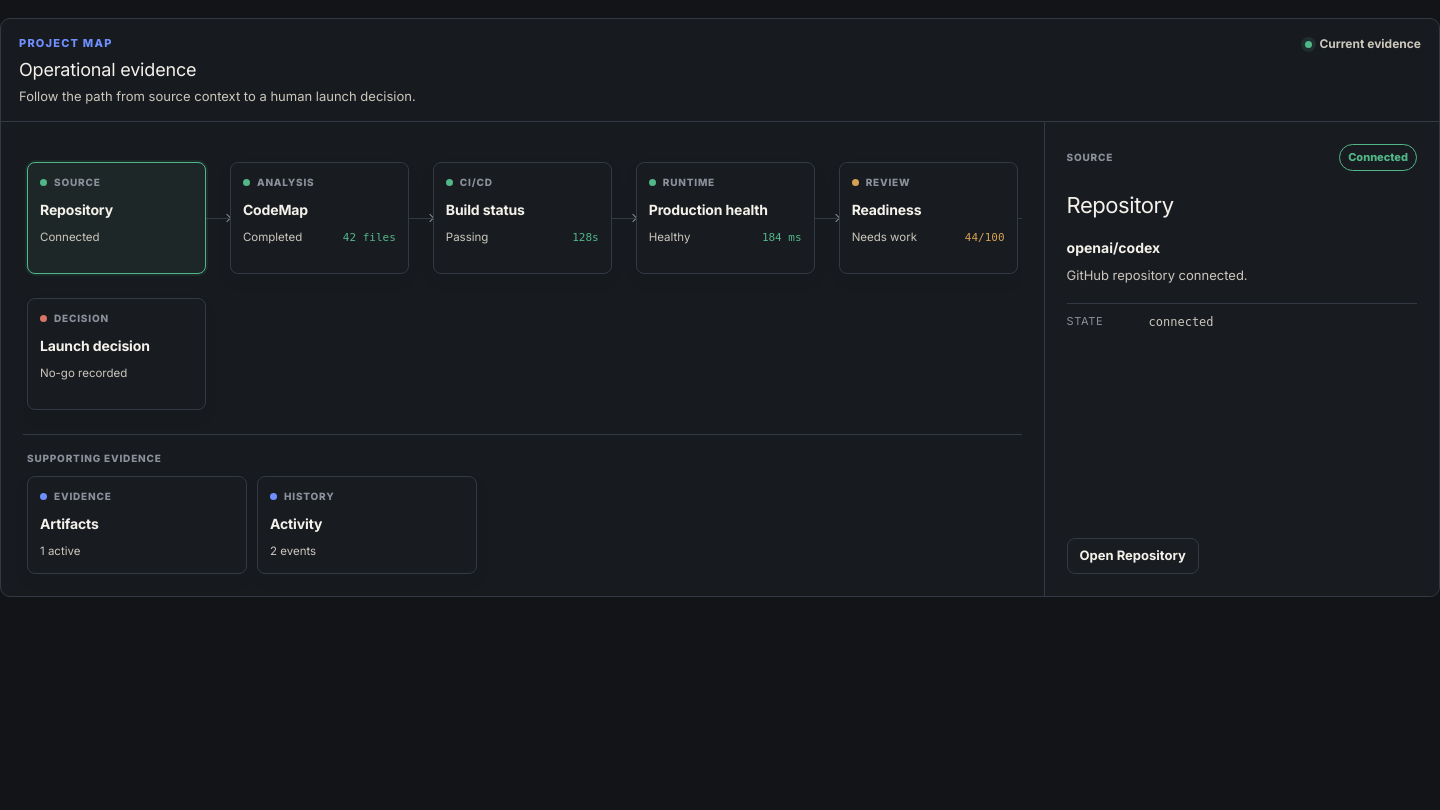
ProjectOperationsMap › reveals the selected signal reading and navigates to its existing detail section
Click the button with aria-label "Inspect Production health: Healthy" at (725, 218), box [636, 162, 815, 274]
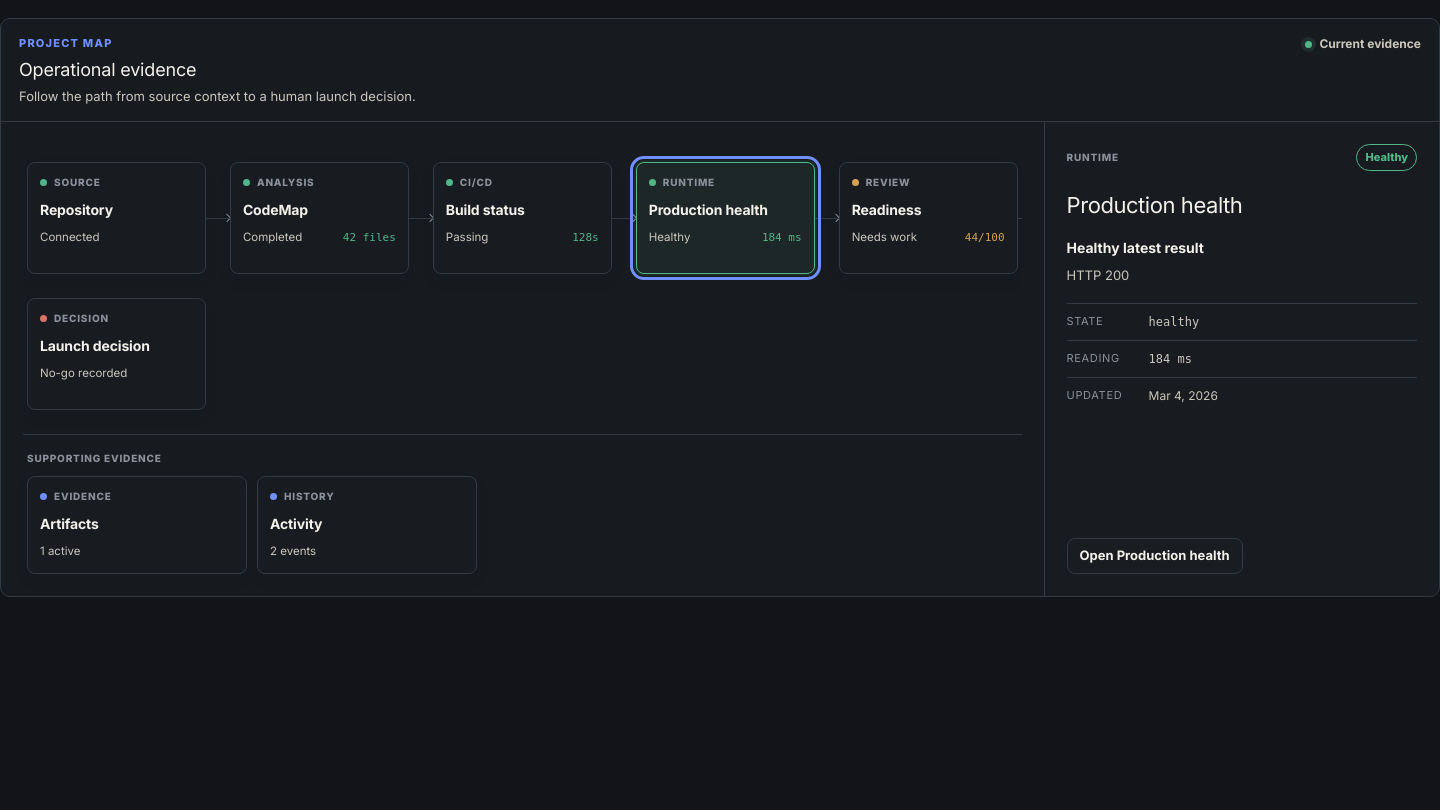
Now the text "Healthy latest result" is shown, box [1066, 238, 1204, 258]
Now the text "HTTP 200" is shown, box [1066, 265, 1129, 285]
Now the text "184 ms" next to "Reading" is shown, box [1148, 352, 1192, 366]
